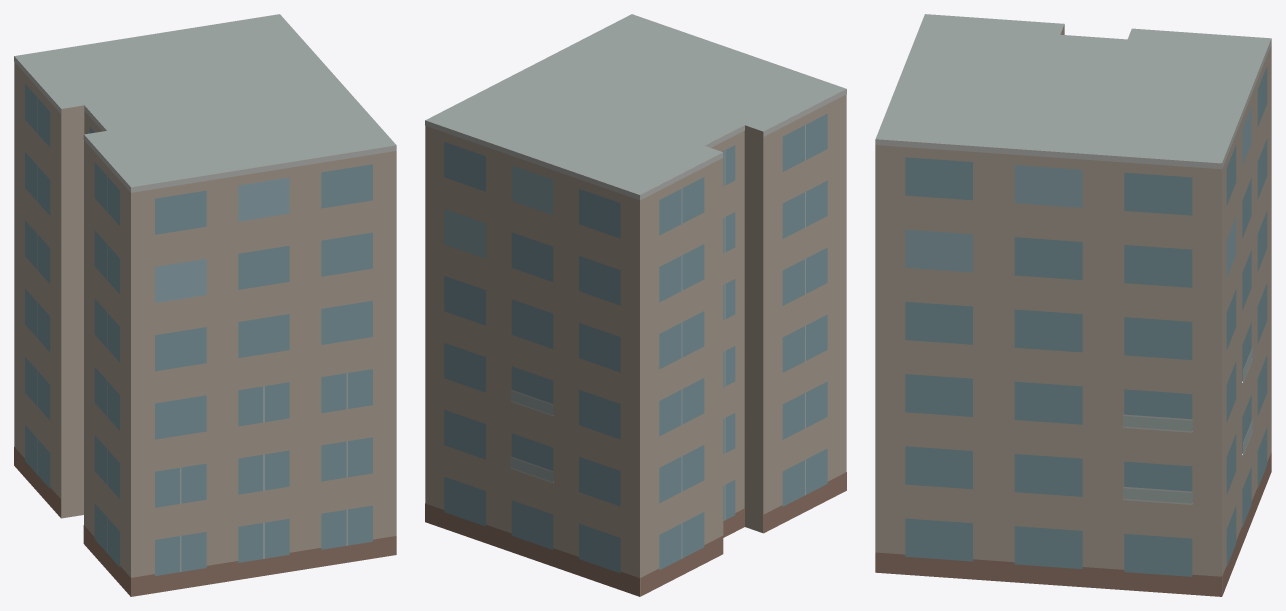
File: survey-upis-32669574.glb
3 views of the same model, side by side, from view 1: azimuth 30°, elevation 25°; view 2: azimuth 150°, elevation 25°; view 3: azimuth 270°, elevation 25° (orthographic). The views are drawn at different scales.
Parts seen in each view (by area): view 1: survey-upis-32669574.tmp; view 2: survey-upis-32669574.tmp; view 3: survey-upis-32669574.tmp.
Boxes of the visible parts, x1,y1,x2,y2 form: survey-upis-32669574.tmp: (14, 14, 396, 596); survey-upis-32669574.tmp: (425, 14, 846, 596); survey-upis-32669574.tmp: (875, 14, 1271, 596).
Bounding box in the file's own units: 13.54 × 18.3 × 15.17.
